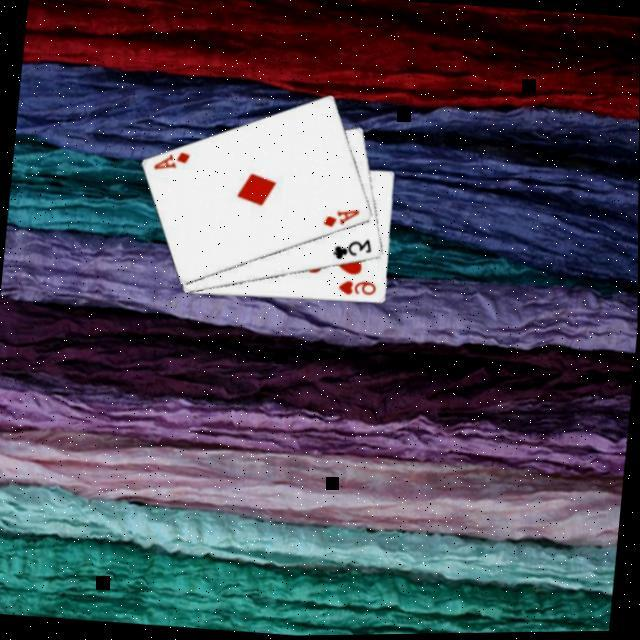3C: (328, 232, 374, 266)
9H: (332, 275, 378, 300)
AD: (148, 145, 192, 174), (318, 204, 360, 232)
